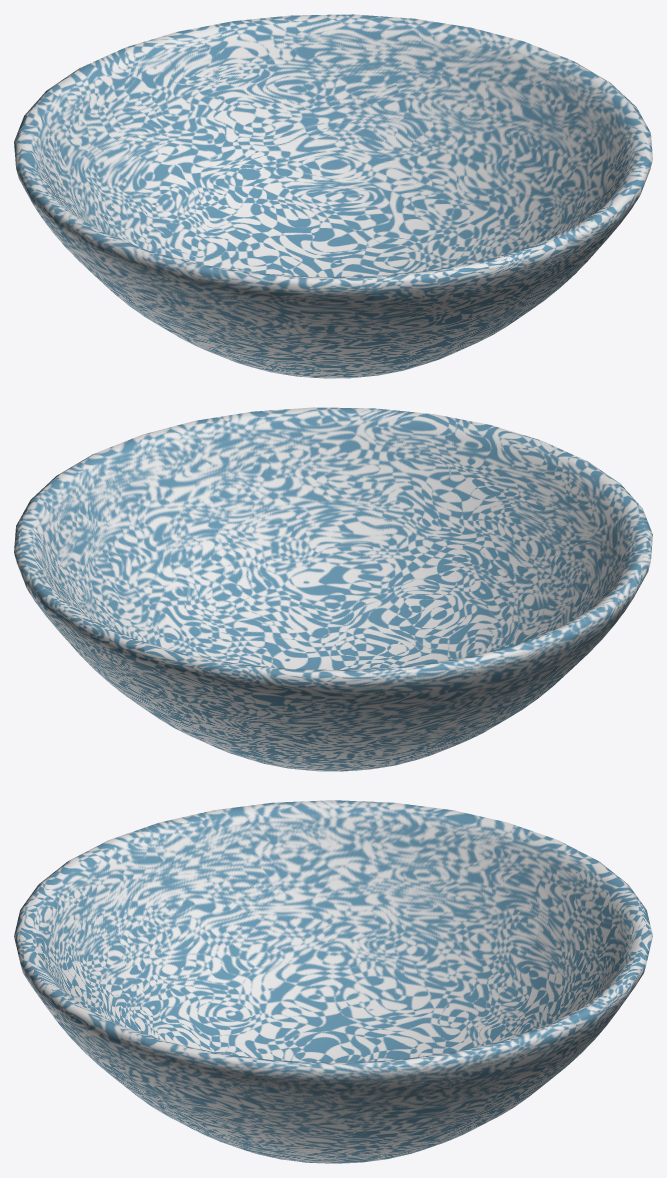
Rendered from Bowl.fbx.
3 renders of one model, top to bottom at view 1: azimuth 30°, elevation 25°; view 2: azimuth 150°, elevation 25°; view 3: azimuth 270°, elevation 25°, orthographic.
Visible parts, largest first — view 1: Bowl, Circle_cell.006, Circle_cell.008, Circle_cell, Circle_cell.005, Circle_cell.004, Circle_cell.009, Circle_cell.001, Circle_cell.007, Circle_cell.002, Circle_cell.003; view 2: Bowl, Circle_cell.007, Circle_cell.008, Circle_cell.004, Circle_cell.002, Circle_cell.009, Circle_cell.005, Circle_cell, Circle_cell.006, Circle_cell.003; view 3: Bowl, Circle_cell.004, Circle_cell.002, Circle_cell, Circle_cell.009, Circle_cell.008, Circle_cell.006, Circle_cell.003, Circle_cell.007, Circle_cell.001.
Boxes of the visible parts, x1=… form: Bowl: x1=16, y1=25, x2=652, y2=372; Circle_cell.006: x1=214, y1=14, x2=460, y2=186; Circle_cell.008: x1=426, y1=32, x2=652, y2=268; Circle_cell: x1=34, y1=25, x2=232, y2=191; Circle_cell.005: x1=239, y1=242, x2=566, y2=378; Circle_cell.004: x1=14, y1=109, x2=239, y2=363; Circle_cell.009: x1=156, y1=188, x2=425, y2=277; Circle_cell.001: x1=201, y1=276, x2=382, y2=364; Circle_cell.007: x1=414, y1=162, x2=650, y2=367; Circle_cell.002: x1=85, y1=230, x2=272, y2=282; Circle_cell.003: x1=341, y1=60, x2=430, y2=258; Bowl: x1=14, y1=407, x2=651, y2=771; Circle_cell.007: x1=210, y1=407, x2=405, y2=646; Circle_cell.008: x1=31, y1=426, x2=256, y2=653; Circle_cell.004: x1=340, y1=587, x2=631, y2=765; Circle_cell.002: x1=549, y1=497, x2=652, y2=631; Circle_cell.009: x1=253, y1=638, x2=407, y2=670; Circle_cell.005: x1=397, y1=414, x2=558, y2=650; Circle_cell: x1=144, y1=643, x2=406, y2=749; Circle_cell.006: x1=16, y1=553, x2=146, y2=651; Circle_cell.003: x1=57, y1=588, x2=251, y2=759; Bowl: x1=14, y1=801, x2=648, y2=1163; Circle_cell.004: x1=265, y1=800, x2=562, y2=1026; Circle_cell.002: x1=96, y1=802, x2=284, y2=958; Circle_cell: x1=520, y1=842, x2=652, y2=1034; Circle_cell.009: x1=259, y1=984, x2=521, y2=1062; Circle_cell.008: x1=147, y1=1047, x2=480, y2=1163; Circle_cell.006: x1=515, y1=949, x2=649, y2=1044; Circle_cell.003: x1=345, y1=1063, x2=550, y2=1163; Circle_cell.007: x1=29, y1=973, x2=235, y2=1139; Circle_cell.001: x1=39, y1=853, x2=265, y2=980.
Size of the model in its own units: 84.85 by 25.99 by 84.85.
Materials: 1 (1 with a texture image).
